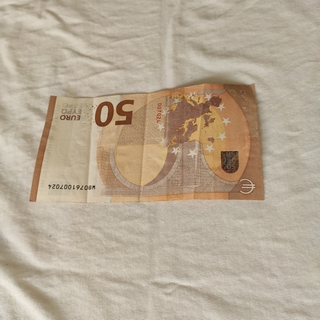50EUROBack: (27, 80, 265, 204)
